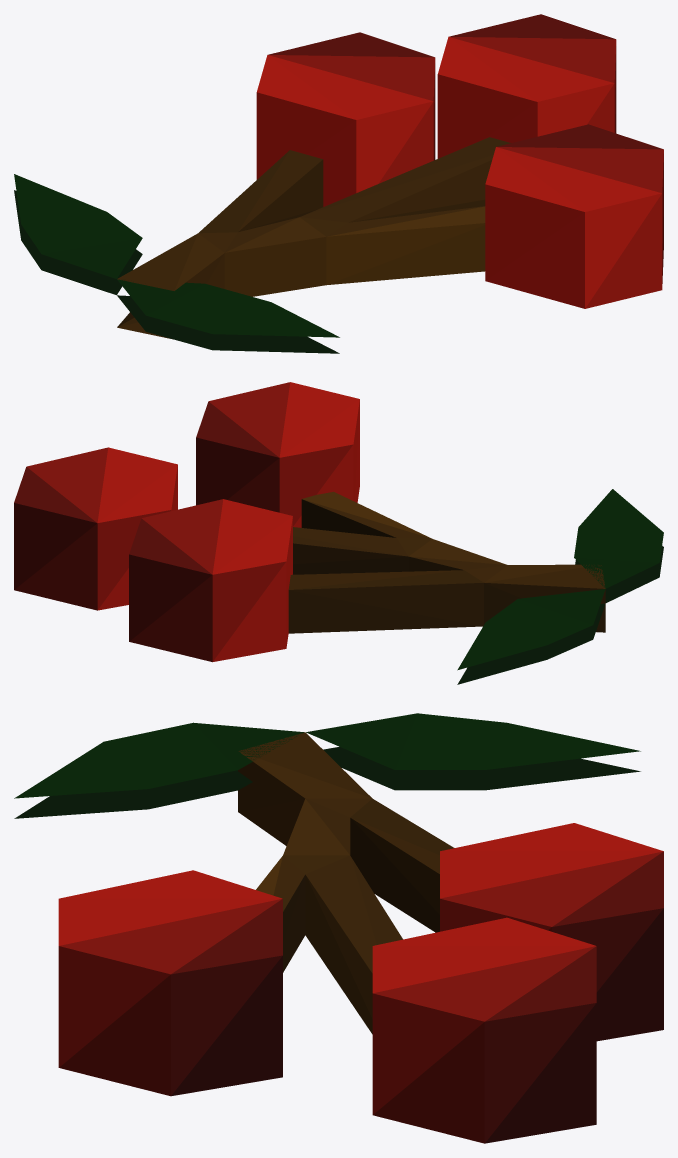
File: redberries.obj
The picture shows the model from 3 angles, top to bottom: view 1: azimuth 30°, elevation 25°; view 2: azimuth 150°, elevation 25°; view 3: azimuth 270°, elevation 25°; orthographic projection. The views are drawn at different scales.
Parts seen in each view (by area): view 1: Item Redberries 2026-10-24_20-42-19; view 2: Item Redberries 2026-10-24_20-42-19; view 3: Item Redberries 2026-10-24_20-42-19.
Part boxes in pixels (bbox=[...]): Item Redberries 2026-10-24_20-42-19: bbox=[14, 14, 663, 353]; Item Redberries 2026-10-24_20-42-19: bbox=[14, 382, 663, 684]; Item Redberries 2026-10-24_20-42-19: bbox=[14, 713, 663, 1143].
Bounding box in the file's own units: 39 × 6 × 29.
